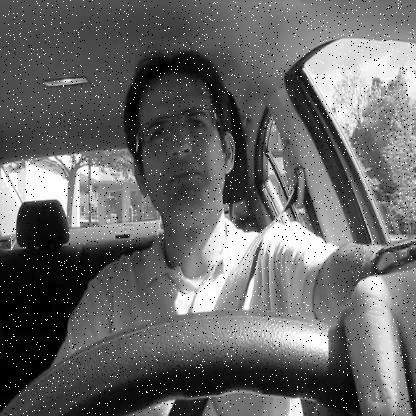seatbelt: (117, 29, 308, 314)
